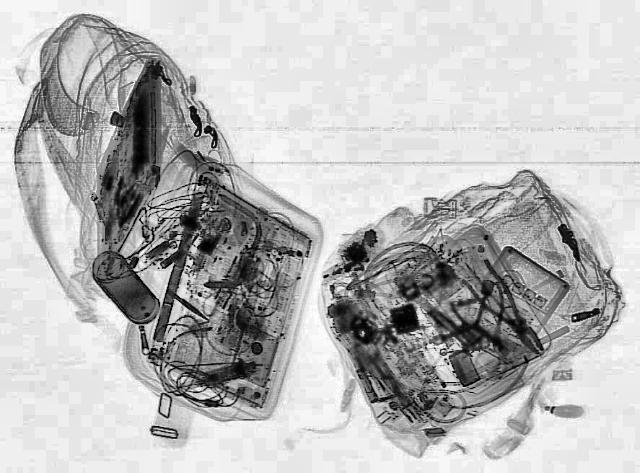Pliers: (450, 258, 562, 362)
